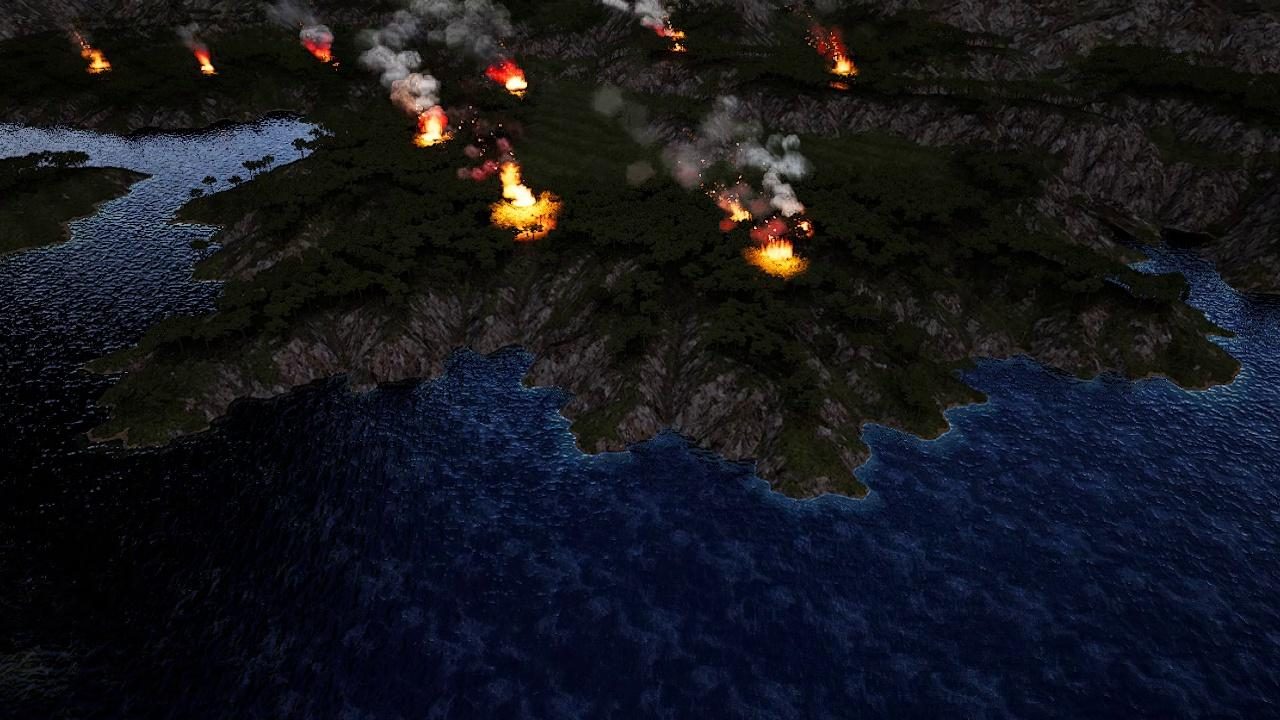fire: (496, 167, 555, 231), (711, 187, 755, 225), (820, 37, 859, 79), (758, 241, 799, 275), (491, 64, 527, 96), (416, 112, 448, 145), (306, 41, 339, 68), (81, 44, 109, 72), (195, 50, 214, 73), (676, 42, 690, 52)
smoke: (587, 87, 809, 225), (353, 0, 512, 109), (264, 0, 334, 50), (585, 0, 667, 33), (177, 22, 210, 56)
